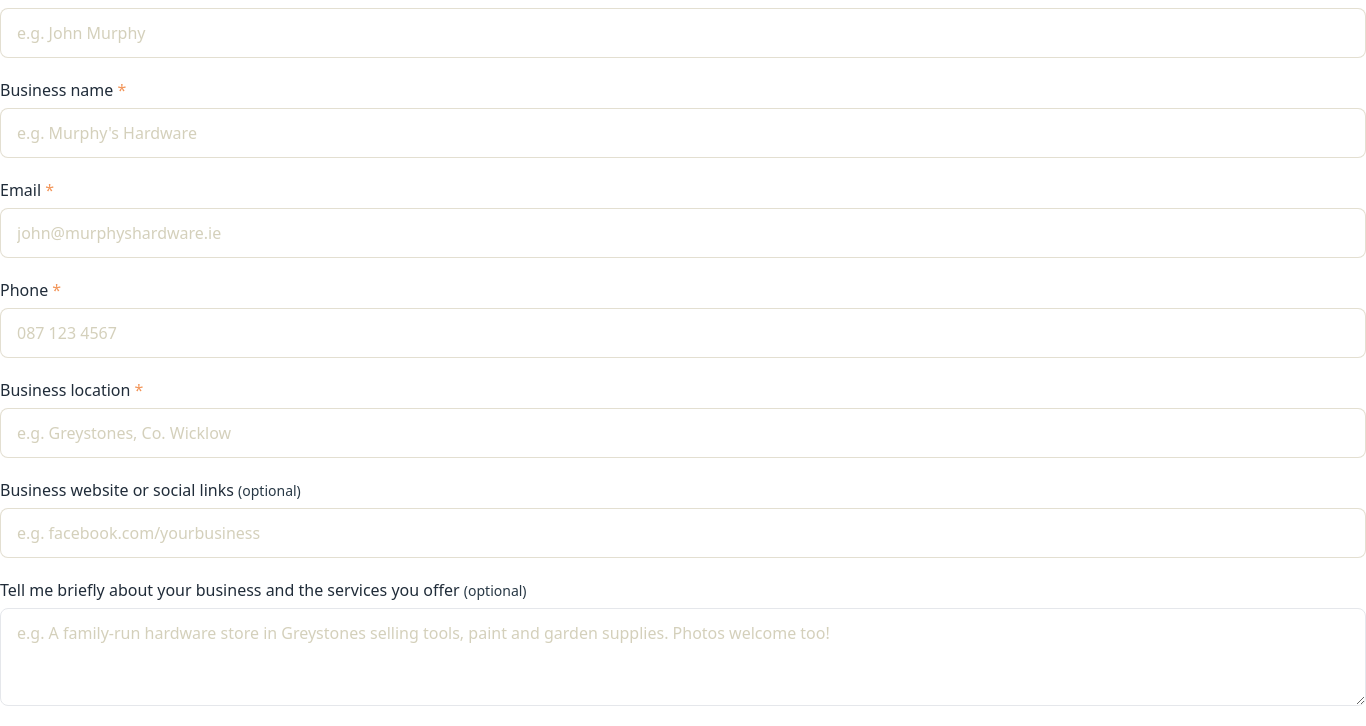
Test case: ServiceEnquiryForm › shows error state when EmailJS fails
Type "John" into the field labelled "Your name *" at x=683, y=33, box [0,8,1365,58]
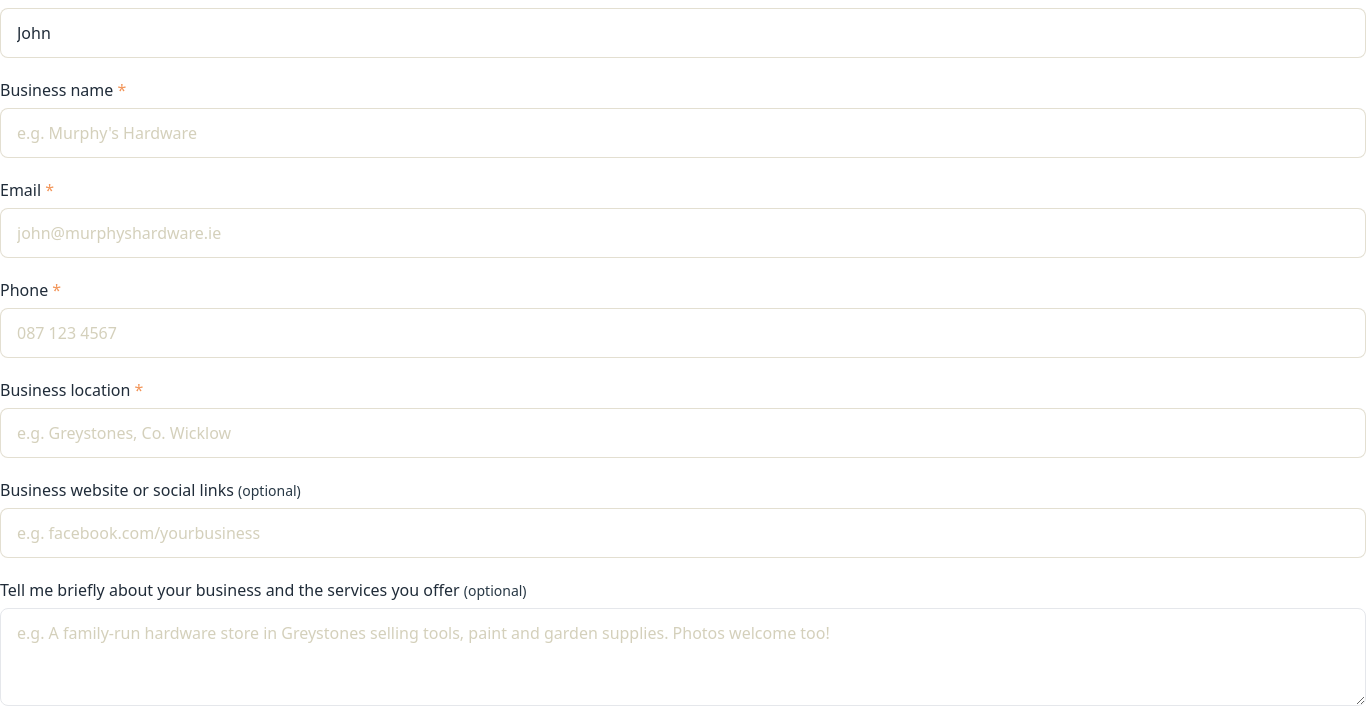
Type "Test" into the field labelled "Business name *" at x=683, y=133, box [0,108,1365,158]
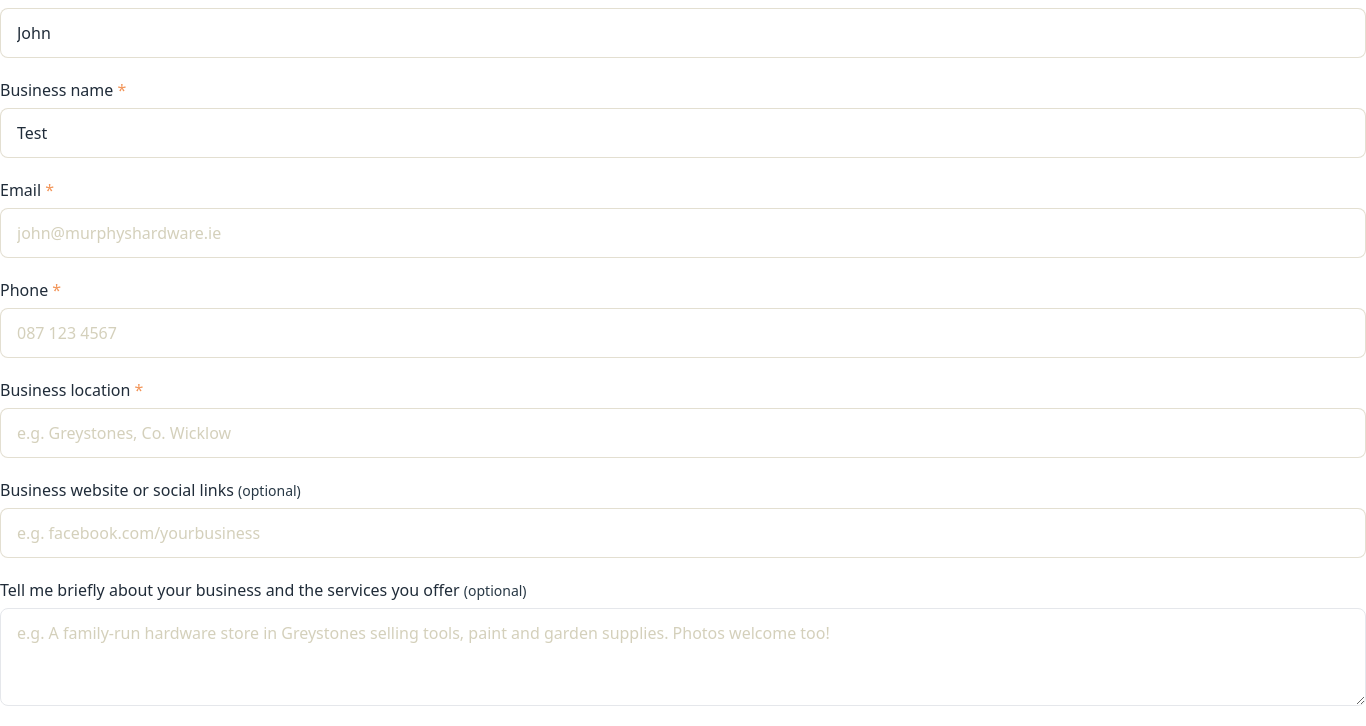
Type "john@example.com" into the field labelled "Email *" at x=683, y=233, box [0,208,1365,258]
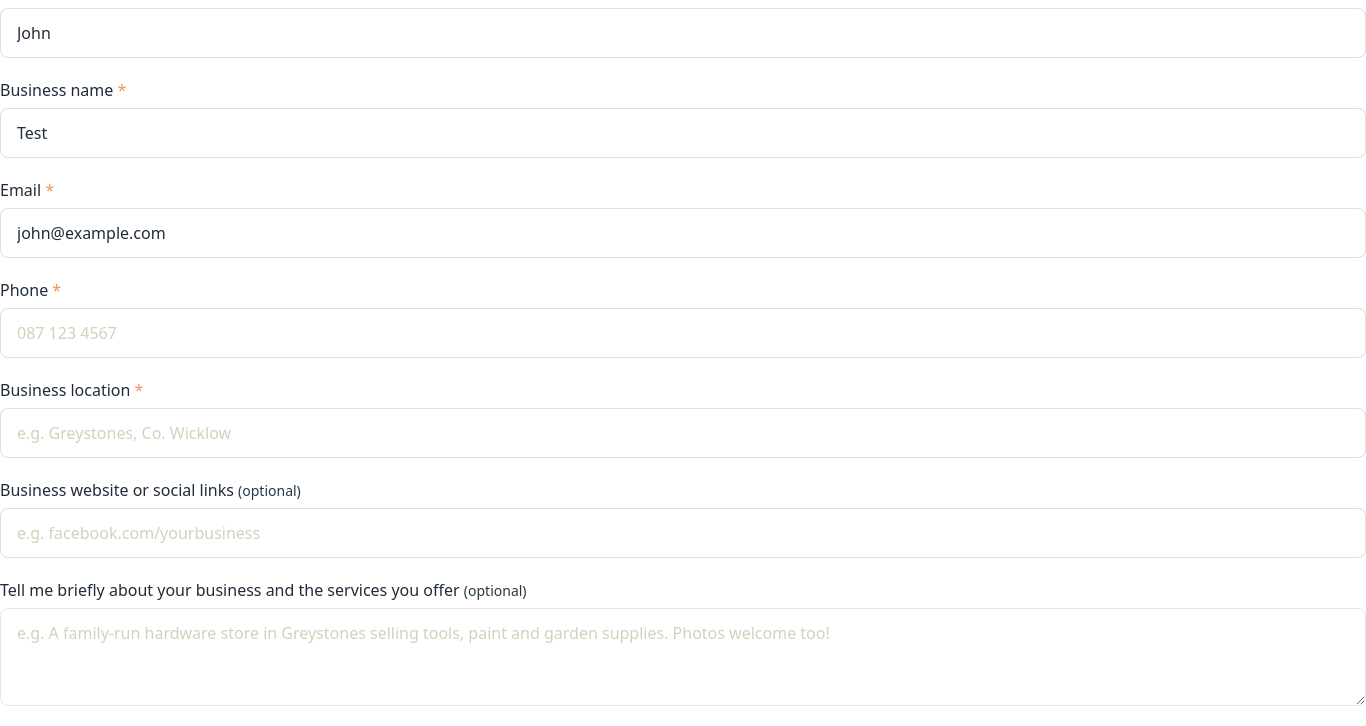
Type "0871234567" into the field labelled "Phone *" at x=683, y=333, box [0,308,1365,358]
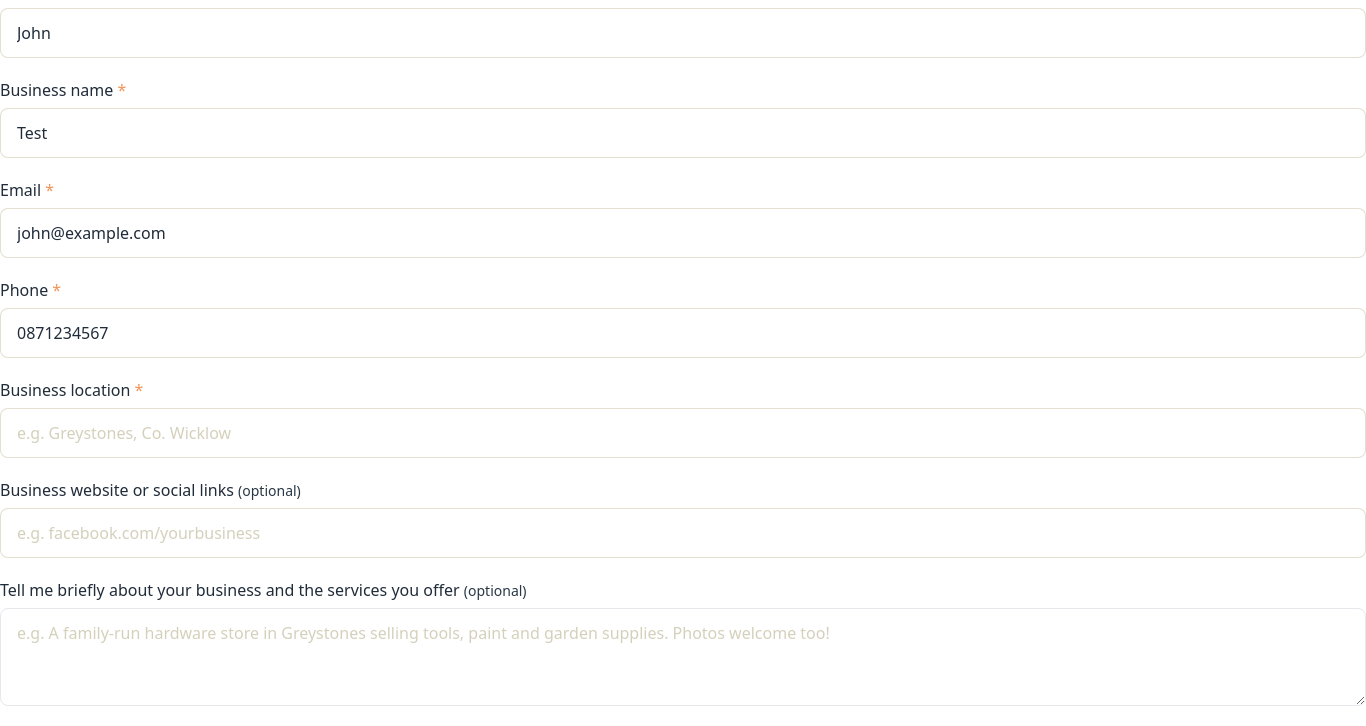
Type "Dublin" into the field labelled "Business location *" at x=683, y=433, box [0,408,1365,458]
(page scrolled)
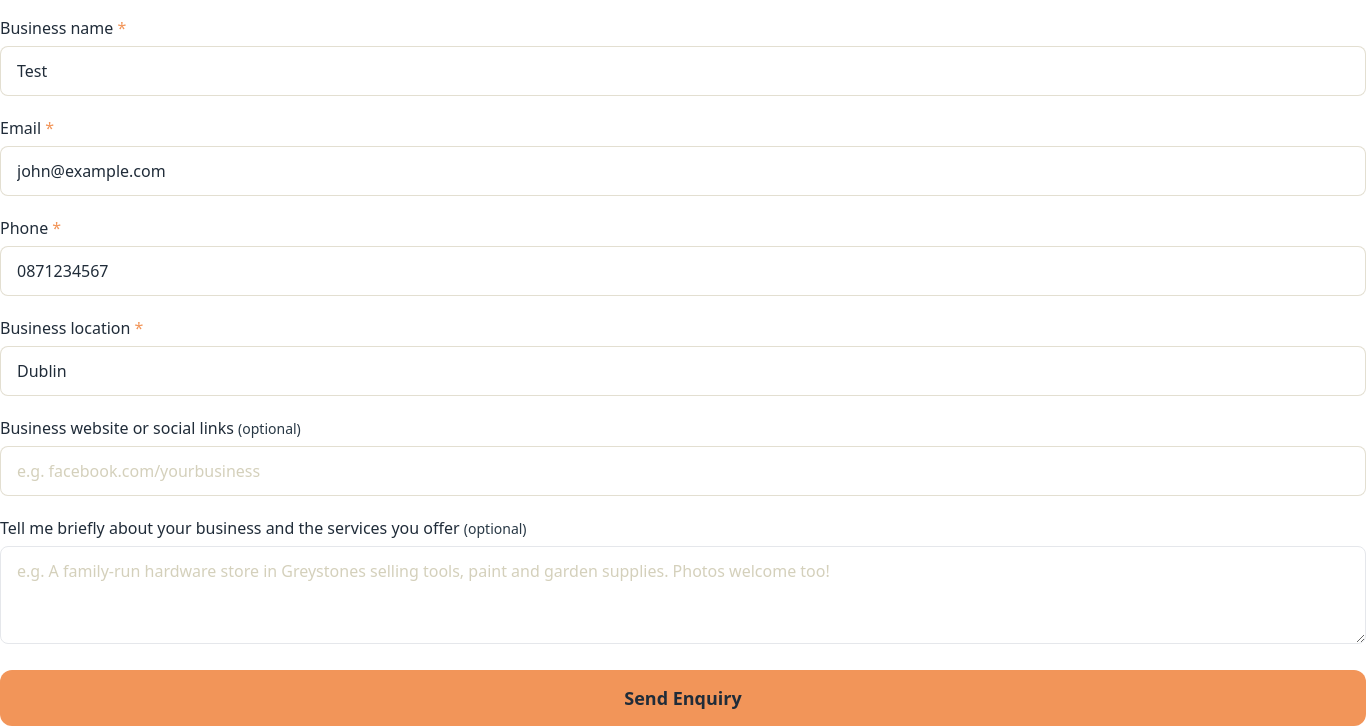
Click the button "Send Enquiry" at x=683, y=698, box [0,670,1365,725]
(page scrolled)
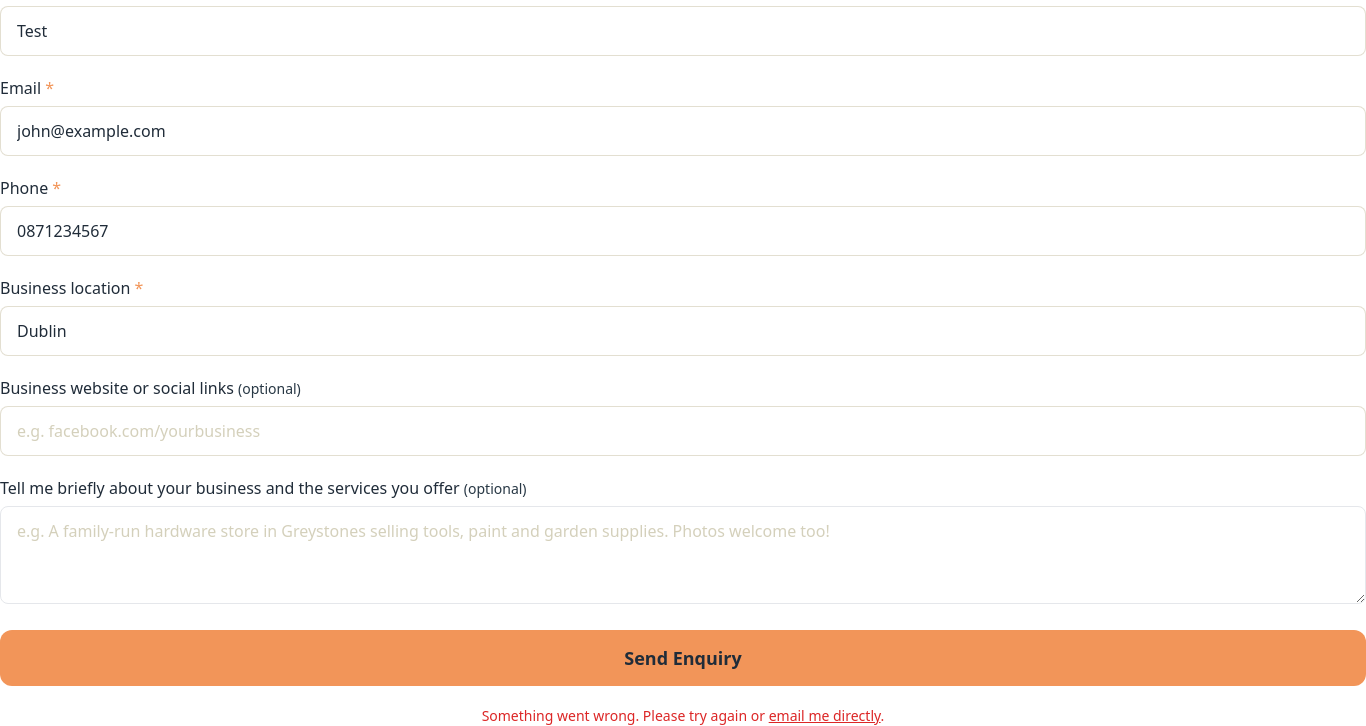
Check: the text "Something went wrong. Please try again or email me directly ." is shown, box [482,706,884,725]
Check: the link "email me directly" is shown, box [769,706,881,725]
